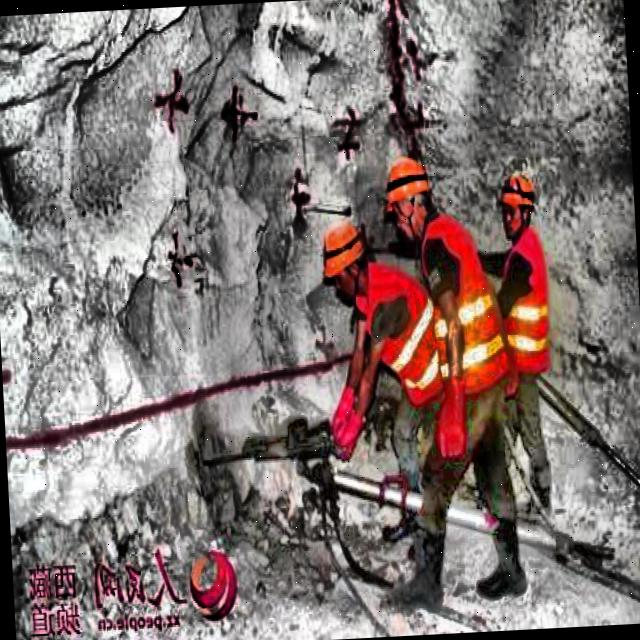helmet: (379, 149, 435, 244), (322, 218, 374, 300), (494, 172, 536, 238)
